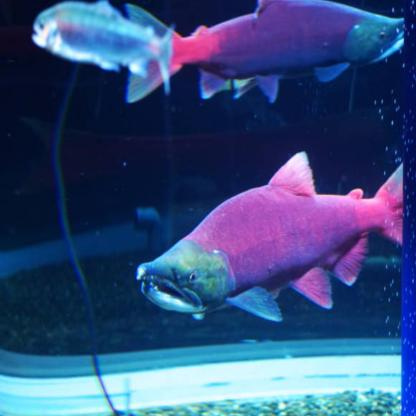sockeye: (141, 160, 407, 319), (130, 0, 415, 112)
